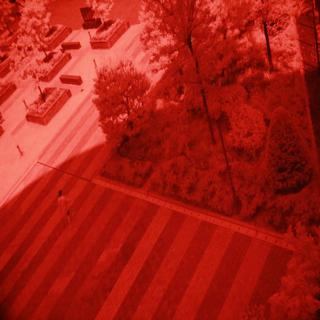person: (49, 182, 75, 241)
